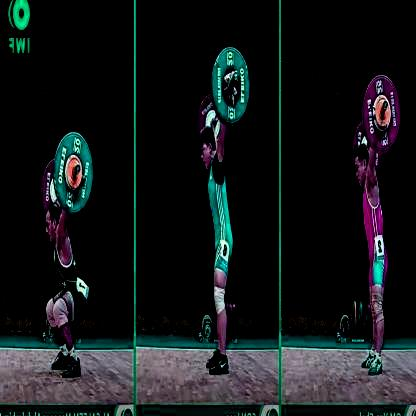Barbell: (225, 65, 242, 96), (68, 157, 81, 190), (379, 96, 388, 121)
